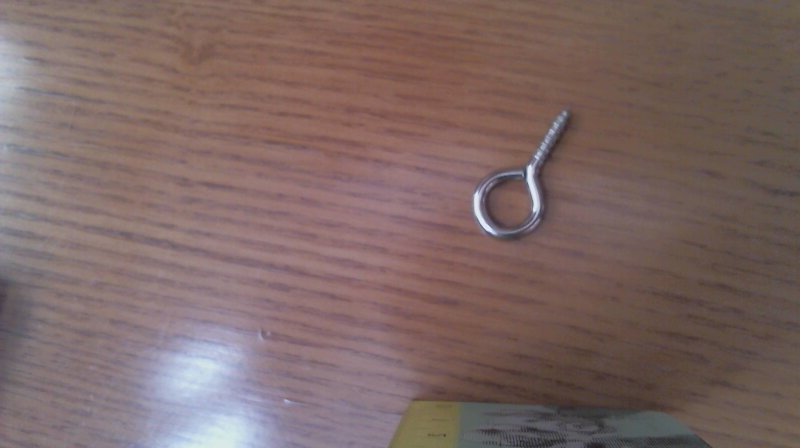O001: (468, 106, 574, 244)
